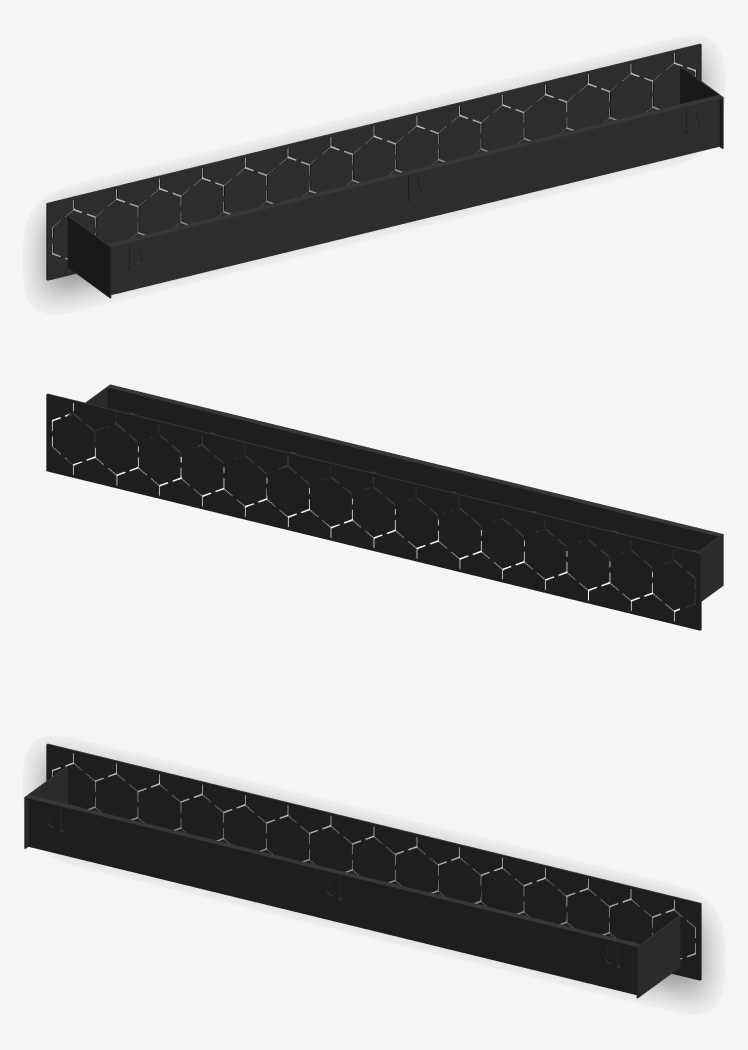
Rendered from bee-hook.a9b9e7bcaa.ar.glb.
3 renders of one model, top to bottom at view 1: azimuth 30°, elevation 25°; view 2: azimuth 150°, elevation 25°; view 3: azimuth 330°, elevation 25°, orthographic.
Parts seen in each view (by area): view 1: NAUO1, object 2; view 2: NAUO1; view 3: NAUO1, object 2.
Part boxes in pixels (bbox=[...]): NAUO1: bbox=[46, 43, 723, 298]; object 2: bbox=[38, 55, 708, 295]; NAUO1: bbox=[46, 384, 723, 630]; NAUO1: bbox=[24, 743, 701, 998]; object 2: bbox=[39, 755, 709, 995].
Size of the model in its own units: 0.88 by 0.17 by 0.092.
Materials: 2 (1 with a texture image).
